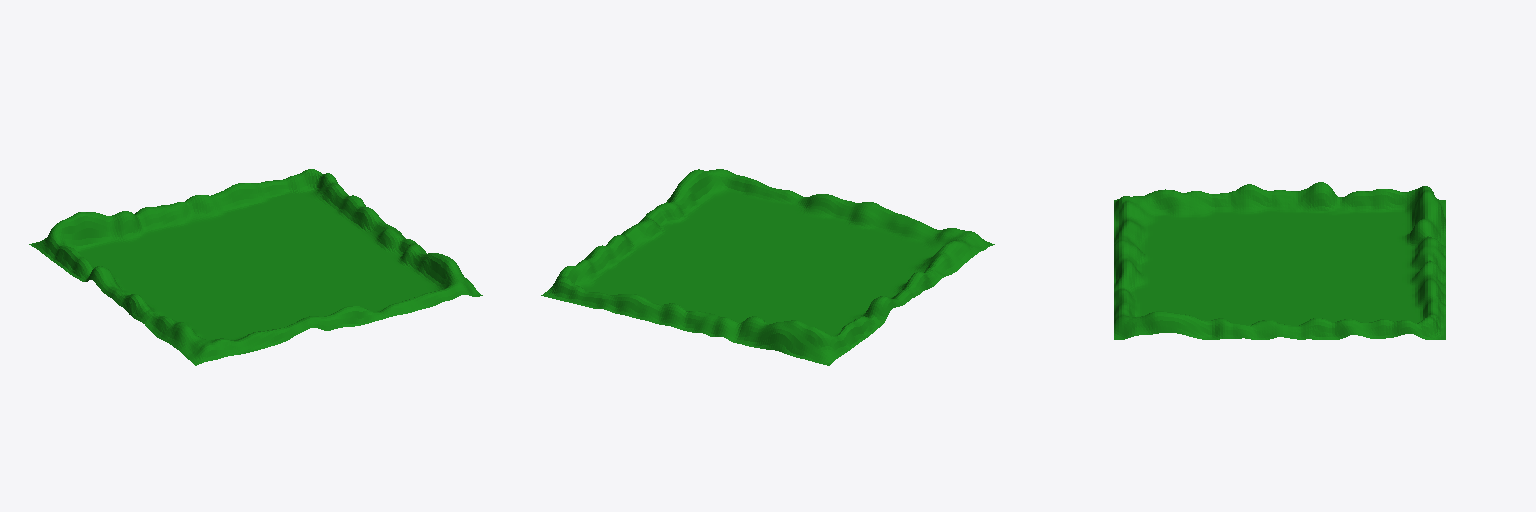
Rendered from floor.obj.
The picture shows the model from 3 angles: view 1: azimuth 30°, elevation 25°; view 2: azimuth 150°, elevation 25°; view 3: azimuth 270°, elevation 25°; orthographic projection.
Visible parts, largest first — view 1: Plane; view 2: Plane; view 3: Plane.
Part boxes in pixels (bbox=[...]): Plane: bbox=[29, 169, 482, 365]; Plane: bbox=[541, 169, 994, 365]; Plane: bbox=[1114, 182, 1445, 339].
Size of the model in its own units: 128 by 11.98 by 128.